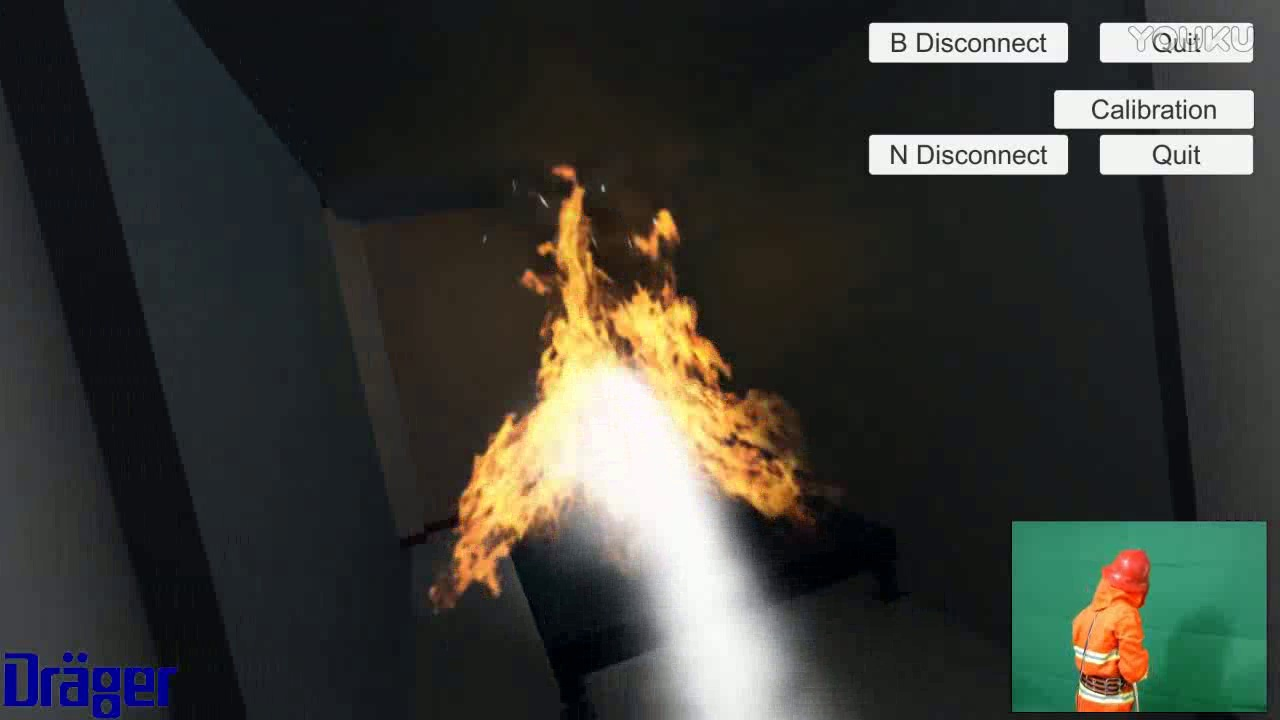fire: (421, 166, 842, 604)
